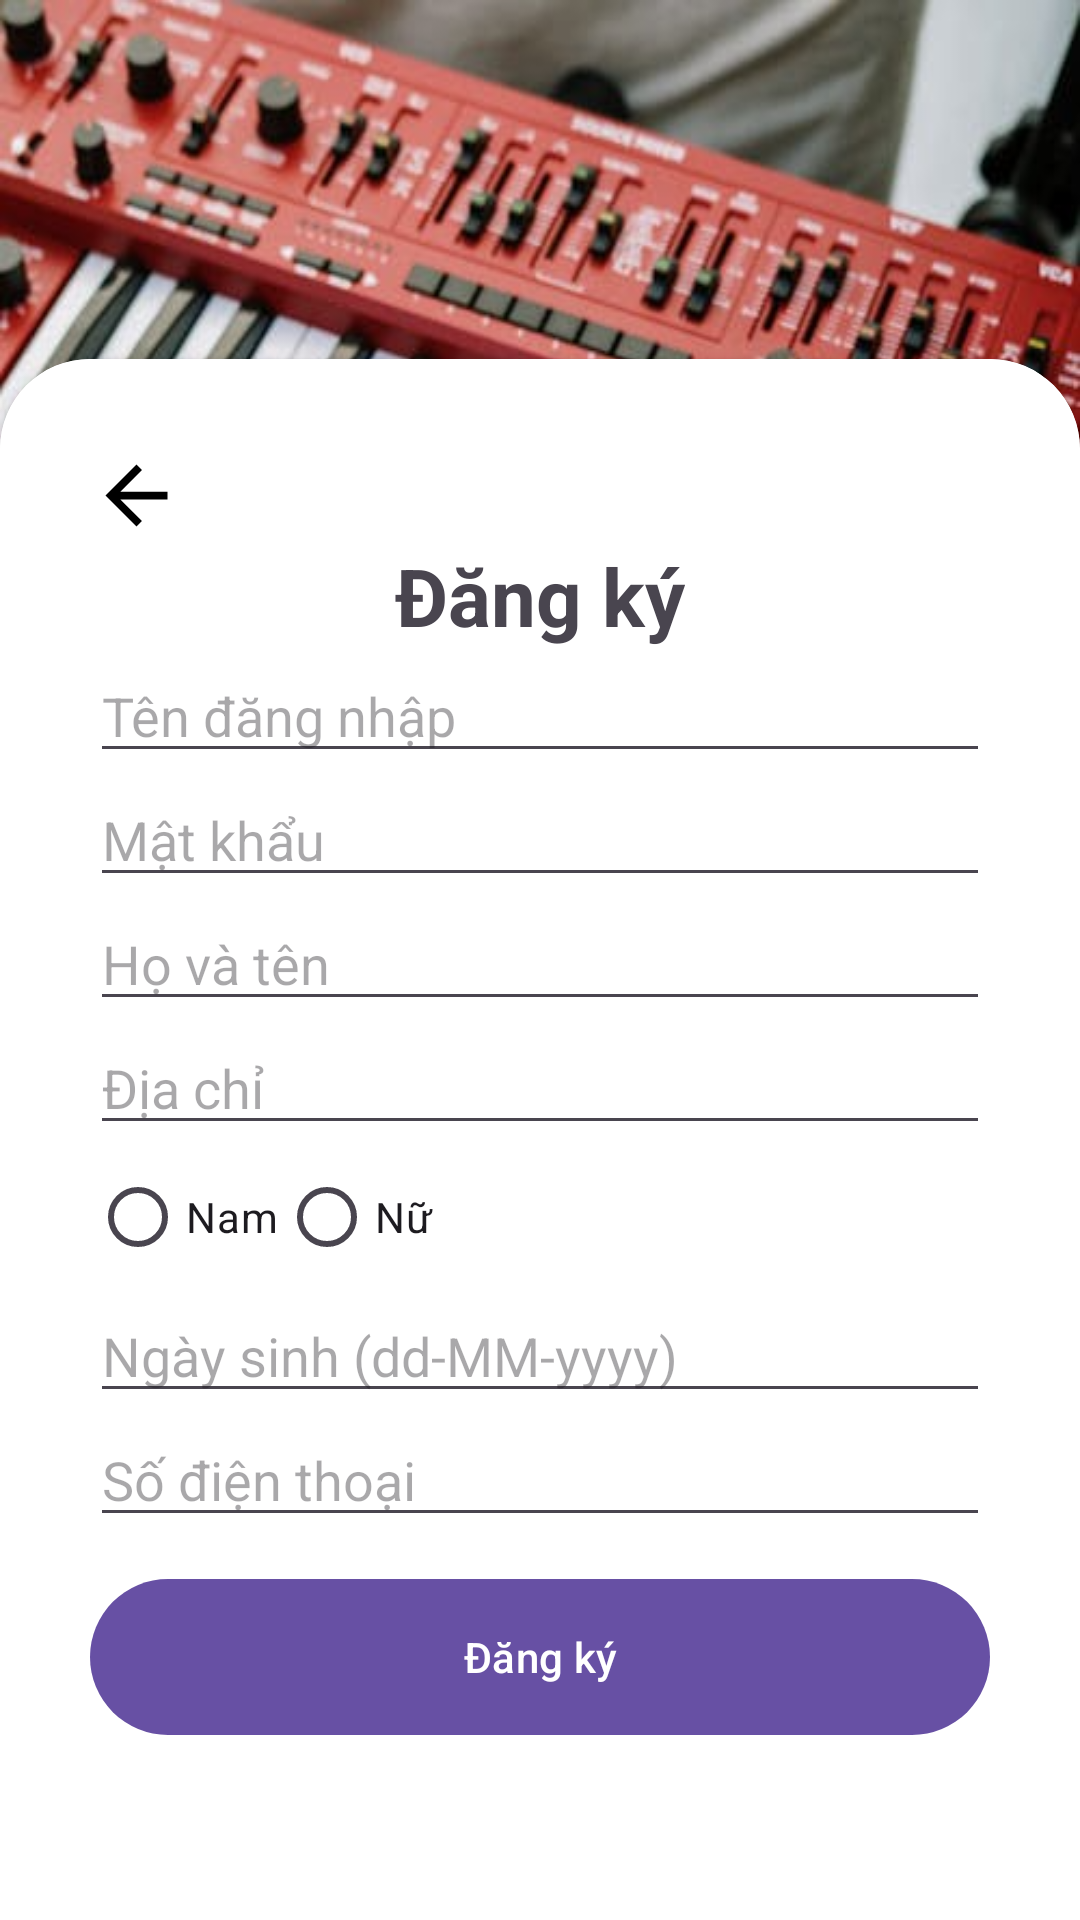

Named icons in this screenshot (1080px×1920px) and their centers, (x=x, y=y):
arrow back: (x=136, y=495)
